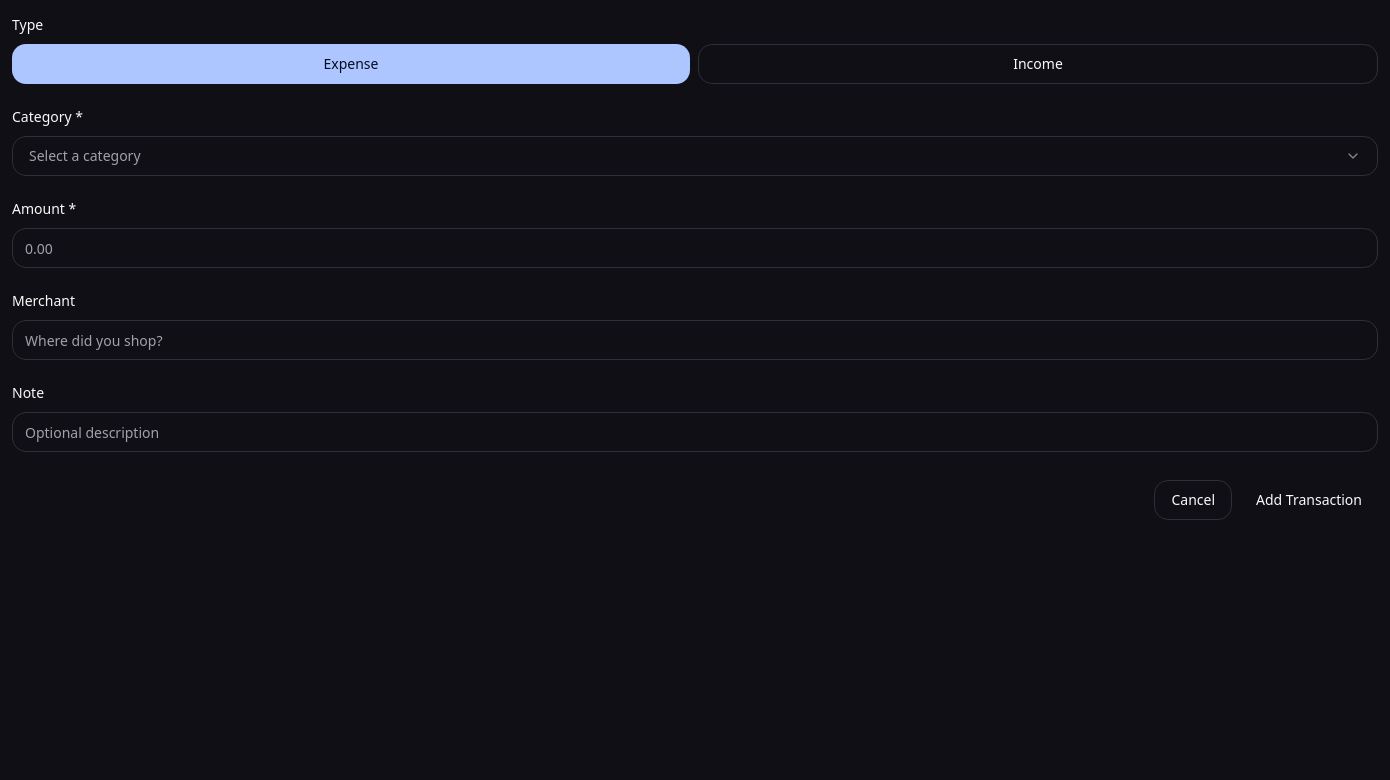
TransactionForm › requires a category before saving
Step 1. Type "42.50" into the number field labelled "Amount *" → [695, 248], box [12, 228, 1378, 268]
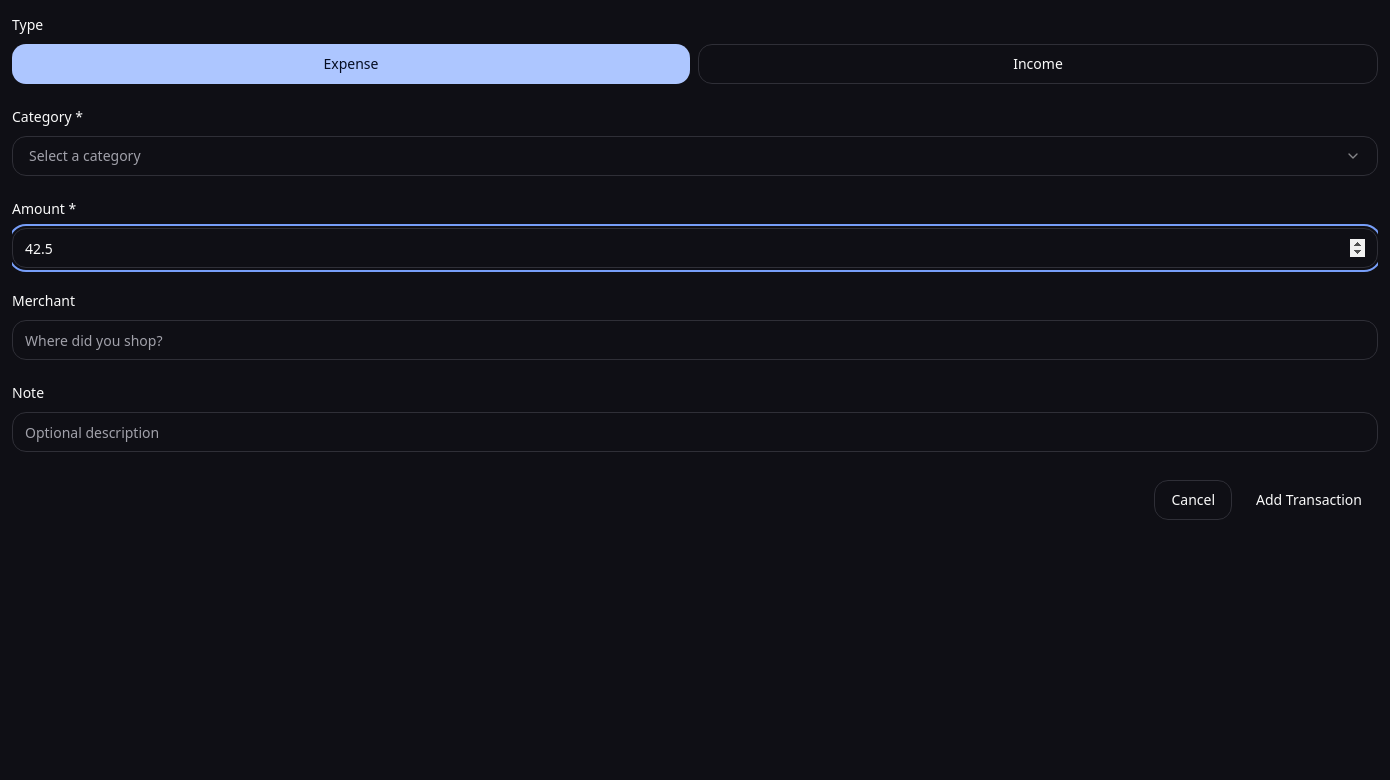
Step 2. Click the button "Add Transaction" → [1309, 500], box [1240, 480, 1378, 520]
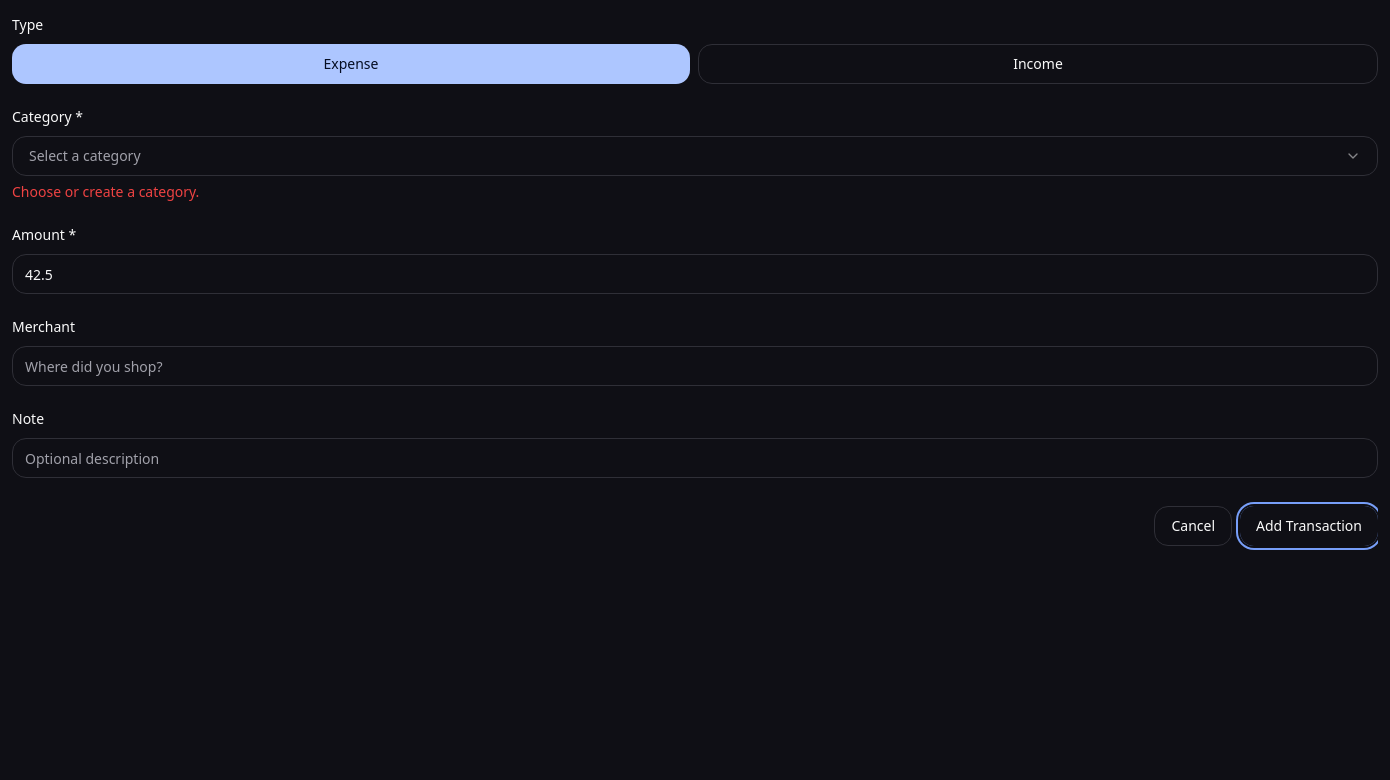
Expected: the text "Choose or create a category." is shown, [12, 182, 199, 201]
